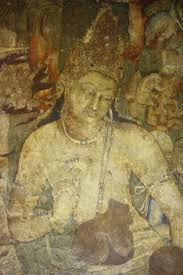Bodhisatva Padampani: (7, 6, 182, 273)
